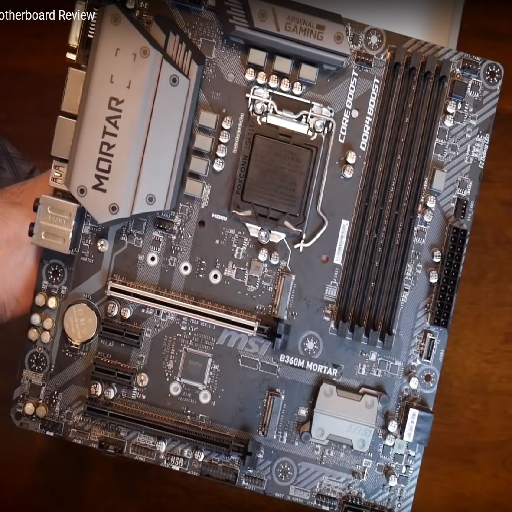CPU: (225, 114, 326, 245)
GPU: (105, 278, 293, 351), (80, 400, 262, 472)
MOTHERBOARD: (10, 4, 506, 512)
RAM: (336, 45, 454, 352)
SSD: (255, 391, 285, 444), (270, 272, 297, 320)
